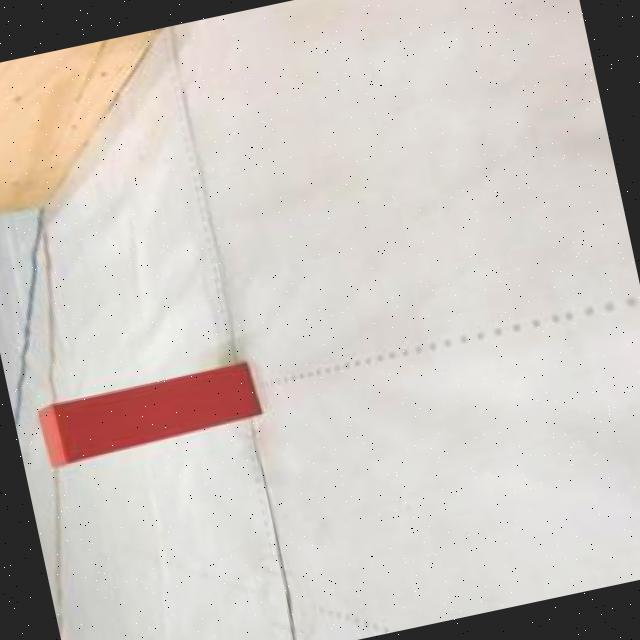redbox: (35, 360, 266, 468)
